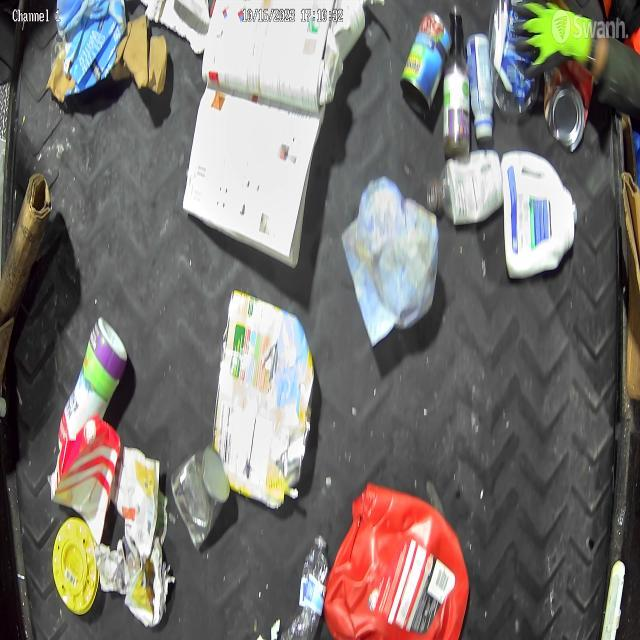can: (171, 446, 229, 544)
milk_jug: (502, 144, 576, 273)
non_white_jug: (328, 485, 463, 640)
plastic_bottle: (294, 530, 332, 638)
